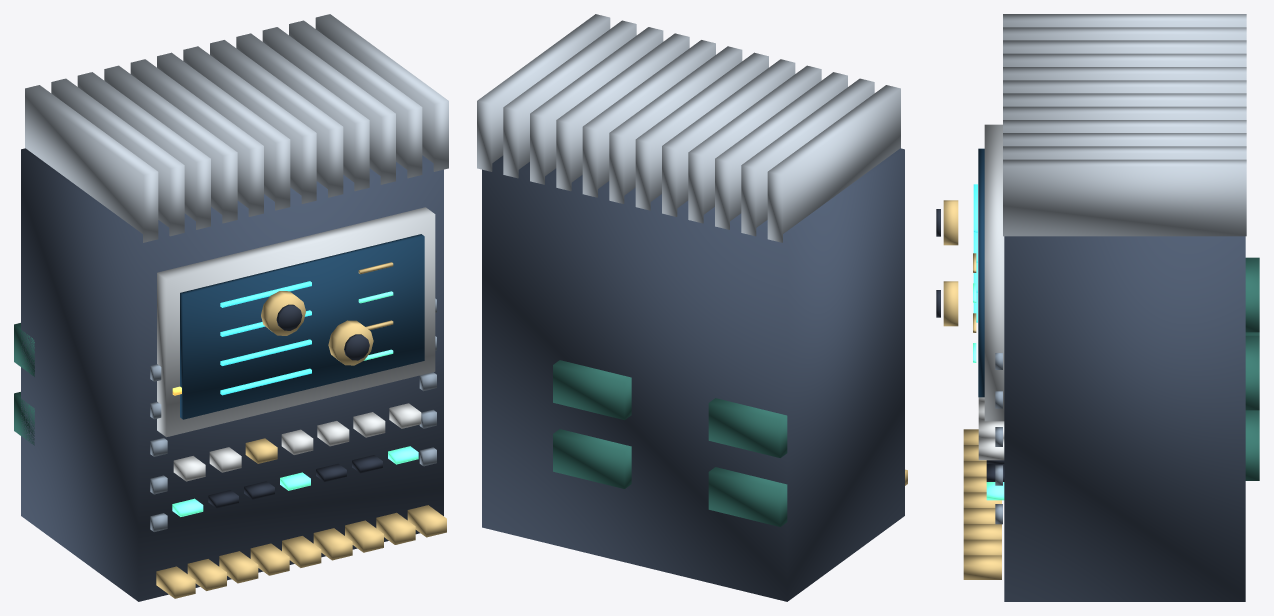
The model's file is 86_L91_DetectorCoolingSystem.glb.
3 renders of one model, left to right at view 1: azimuth 30°, elevation 25°; view 2: azimuth 150°, elevation 25°; view 3: azimuth 270°, elevation 25°, orthographic. The views are drawn at different scales.
Visible parts, largest first — view 1: L91_DetectorCoolingSystem, L91_DetectorCoolingSystem_Part_0014, L91_DetectorCoolingSystem_Part_0012; view 2: L91_DetectorCoolingSystem; view 3: L91_DetectorCoolingSystem, L91_DetectorCoolingSystem_Part_0012, L91_DetectorCoolingSystem_Part_0014.
Boxes of the visible parts, x1,y1,x2,y2 form: L91_DetectorCoolingSystem: [14, 14, 448, 601]; L91_DetectorCoolingSystem_Part_0014: [328, 320, 373, 365]; L91_DetectorCoolingSystem_Part_0012: [261, 291, 305, 335]; L91_DetectorCoolingSystem: [477, 14, 907, 601]; L91_DetectorCoolingSystem: [963, 14, 1259, 601]; L91_DetectorCoolingSystem_Part_0012: [943, 200, 958, 245]; L91_DetectorCoolingSystem_Part_0014: [943, 281, 958, 326].
Bounding box in the file's own units: 1.06 × 1.39 × 0.9296.
